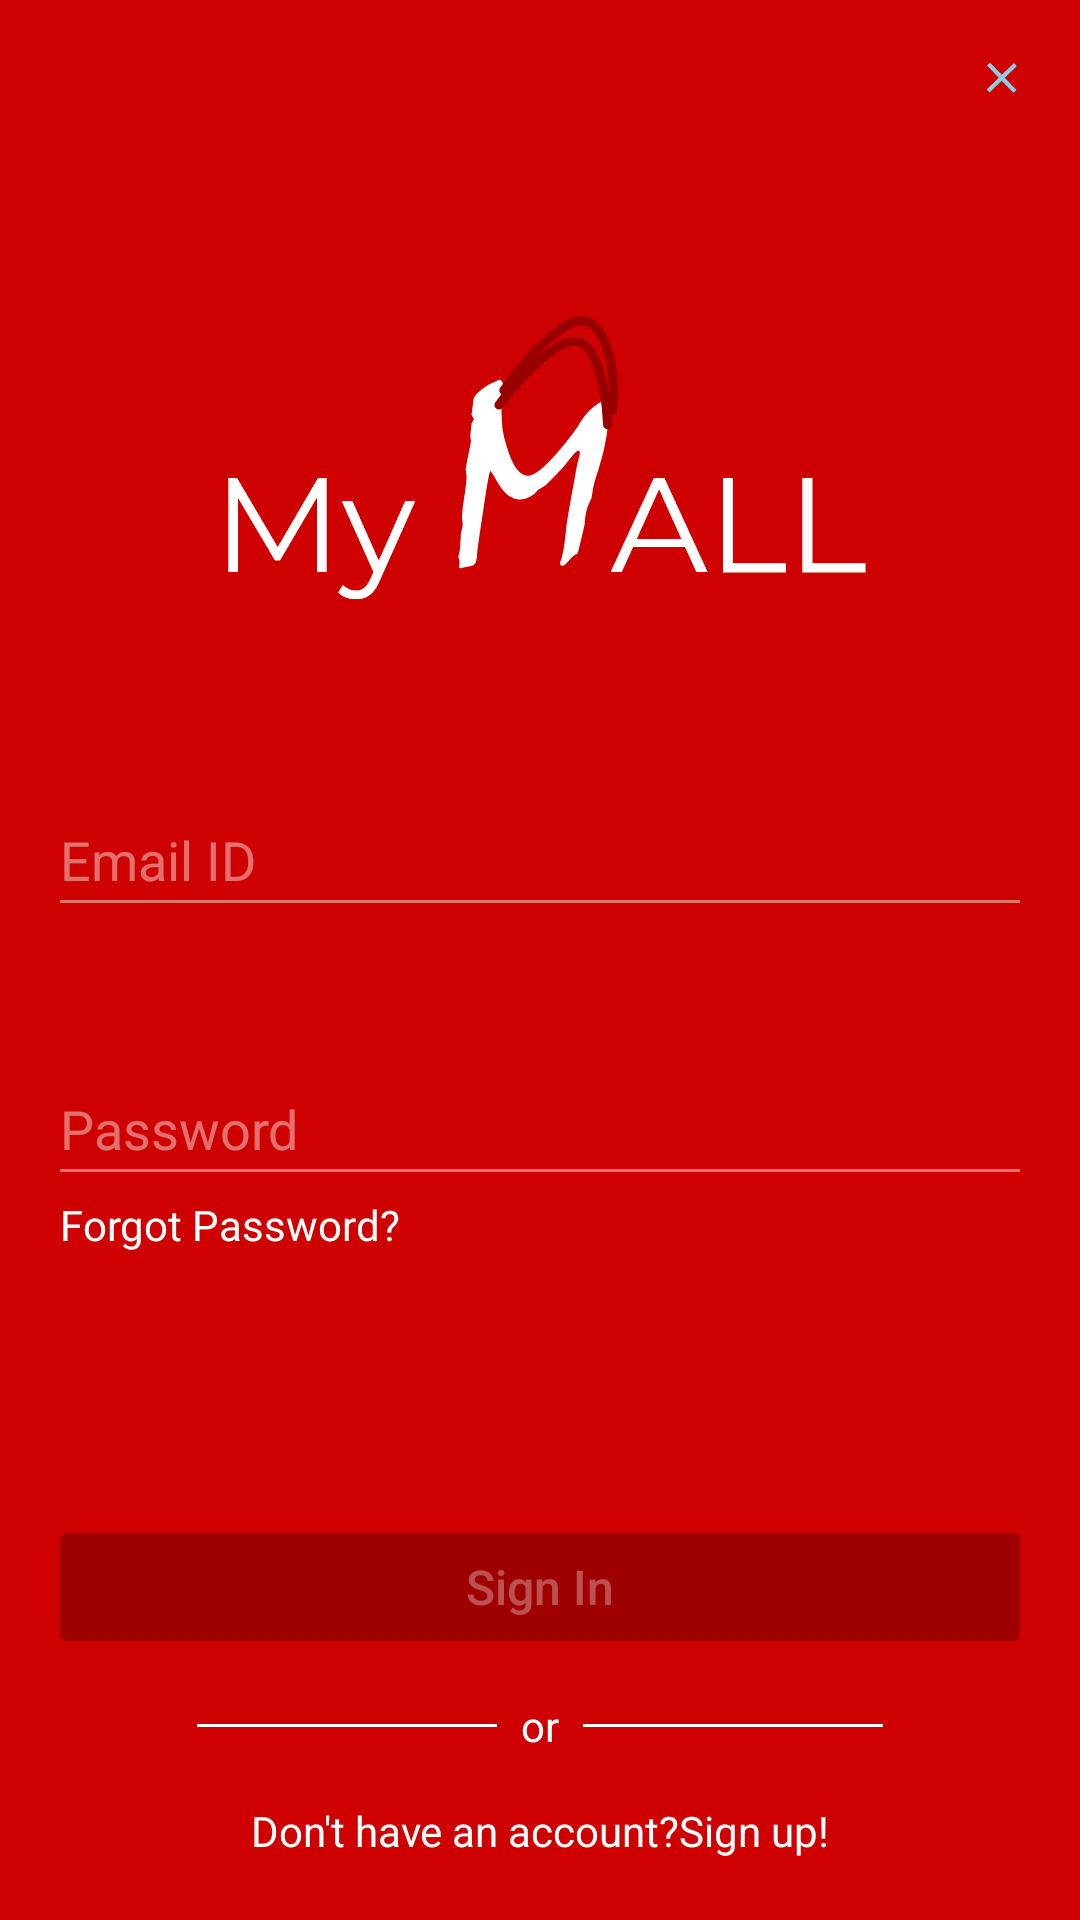

Point at icon controls on the screen. Image size 1080x1920, points as (x,y).
expand close: (1002,78)
